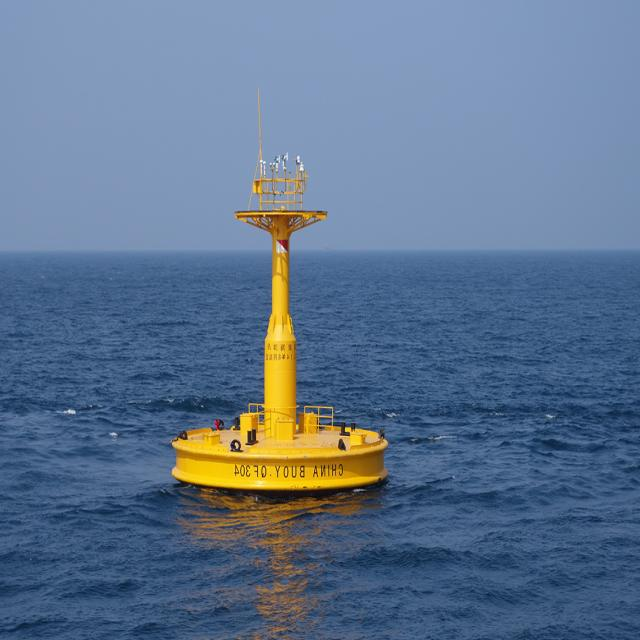buoy: (166, 135, 393, 494)
